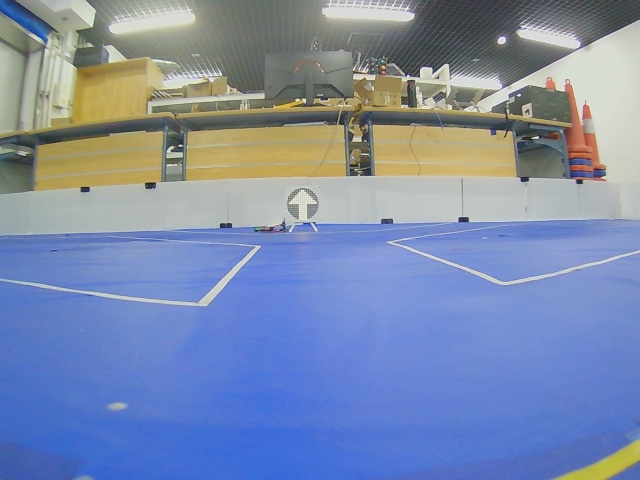straight_yellow: (287, 188, 319, 222)
